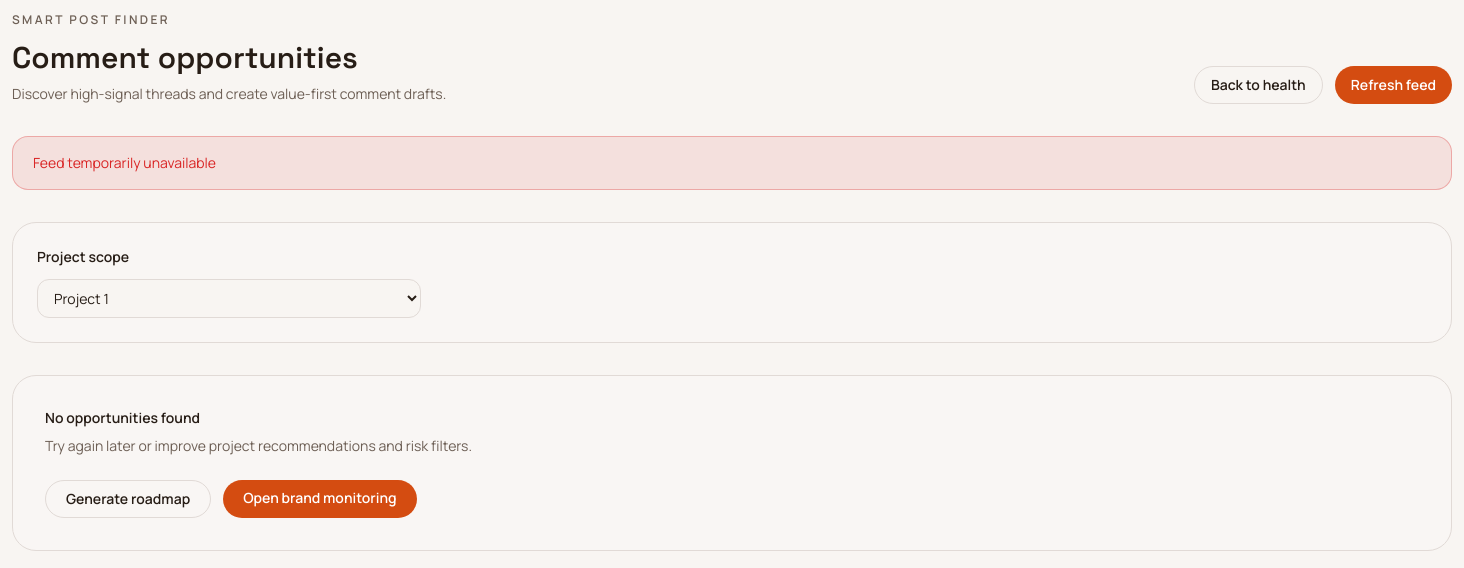
Scenario: OpportunitiesPage › clears stale error after successful silent refresh
Check: the text "Feed temporarily unavailable" is shown, box x1=12 y1=136 x2=1452 y2=190
Click the button "Refresh feed" at (1393, 85), box x1=1335 y1=66 x2=1452 y2=104
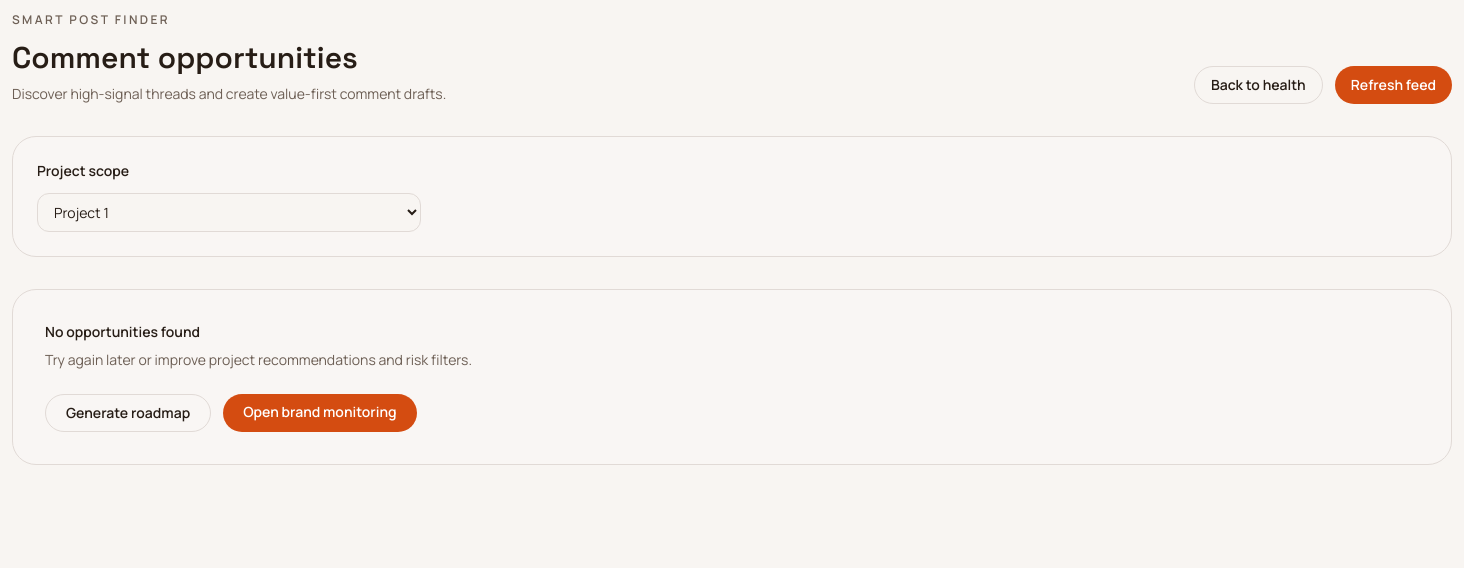
Check: the text "No opportunities found" is shown, box x1=45 y1=322 x2=200 y2=341
Check: the text "Feed temporarily unavailable" is gone
